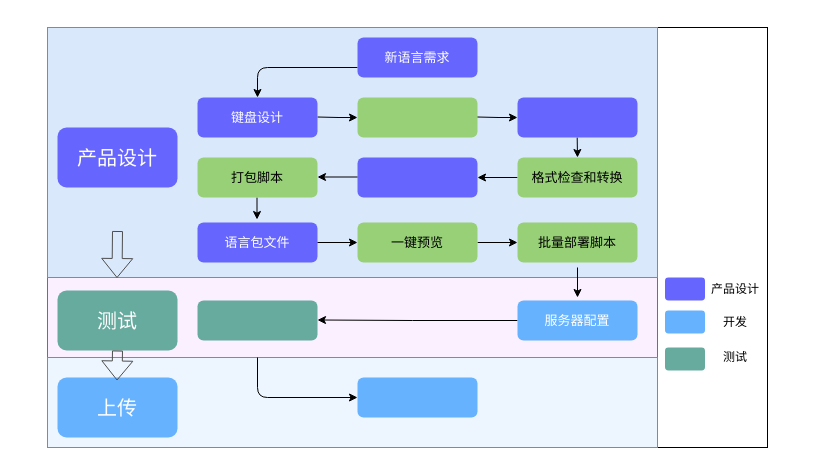
This 814x474 diagram has some shape labels left out. Here are the shapes that lost their labels. From the top down, the centre of each, then its label:
At (417,117): "语言模板脚本".
At (577,117): "定制语言数据".
At (417,177): "语言包数据".
At (257,320): "测试服验收".
At (417,397): "正式服上线".
